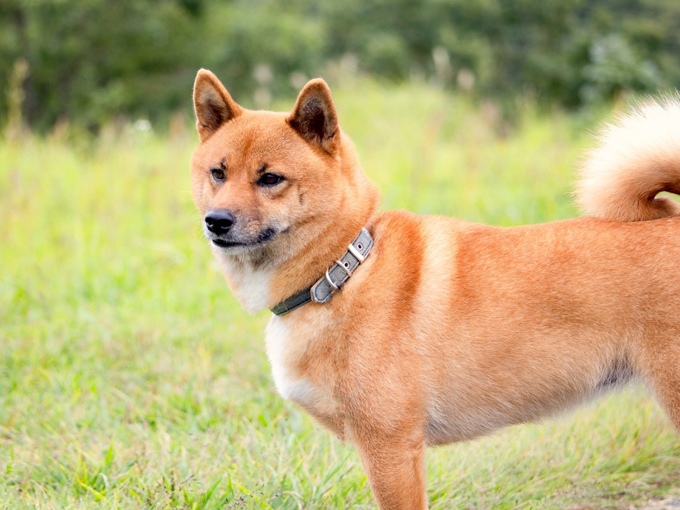dog: (191, 71, 673, 495)
